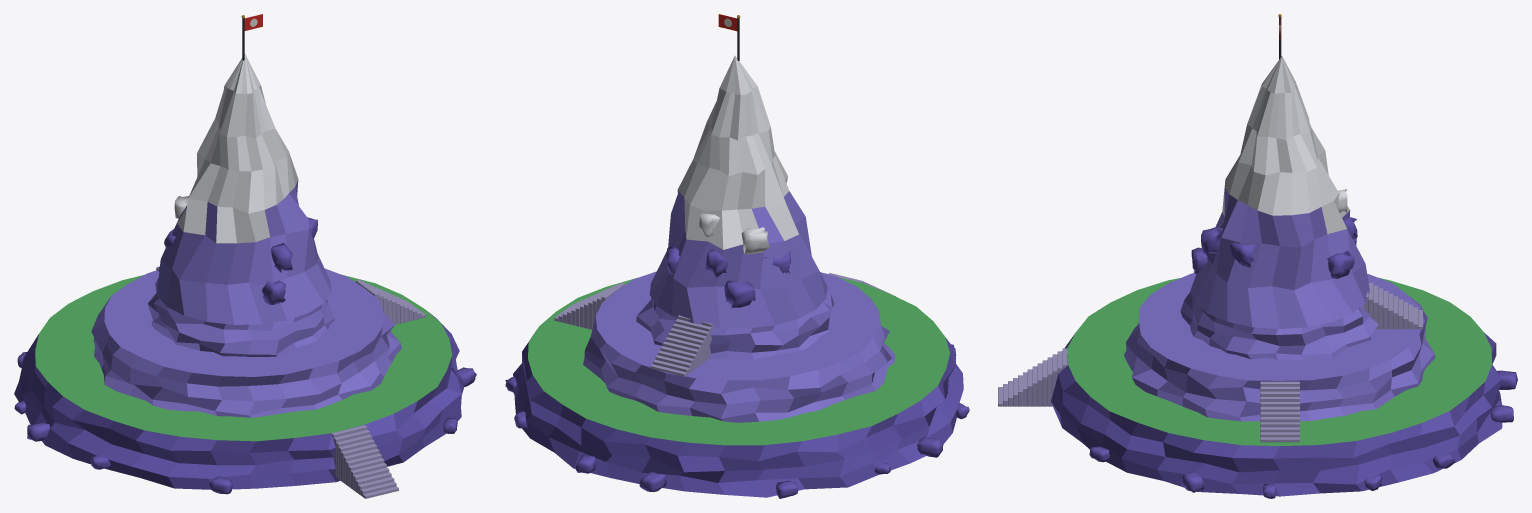
The model's file is tf-peak.glb.
3 renders of one model, left to right at view 1: azimuth 30°, elevation 25°; view 2: azimuth 150°, elevation 25°; view 3: azimuth 270°, elevation 25°, orthographic.
Parts seen in each view (by area): view 1: tf-peak; view 2: tf-peak; view 3: tf-peak.
Part boxes in pixels (x1,y1,x2,y2): tf-peak: (14, 14, 476, 498); tf-peak: (505, 14, 969, 498); tf-peak: (998, 14, 1517, 498).
Size of the model in its own units: 48.06 by 43.08 by 52.35.
